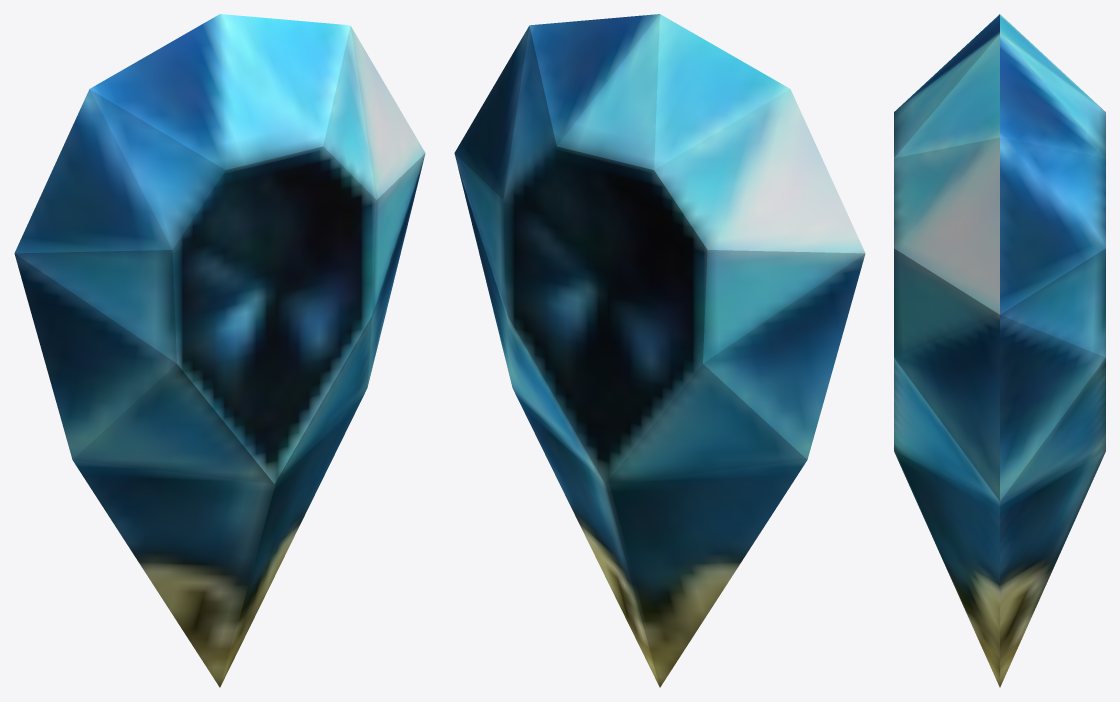
File: crystall.glb
The picture shows the model from 3 angles, left to right: view 1: azimuth 30°, elevation 25°; view 2: azimuth 150°, elevation 25°; view 3: azimuth 270°, elevation 25°; orthographic projection. The views are drawn at different scales.
Visible parts, largest first — view 1: crystall; view 2: crystall; view 3: crystall.
Part boxes in pixels (box(x1,y1,x2,y2)): crystall: box(14, 14, 425, 687); crystall: box(454, 14, 865, 687); crystall: box(894, 14, 1105, 687).
Size of the model in its own units: 2.83 by 4.43 by 1.3.
Materials: 1 (1 with a texture image).
